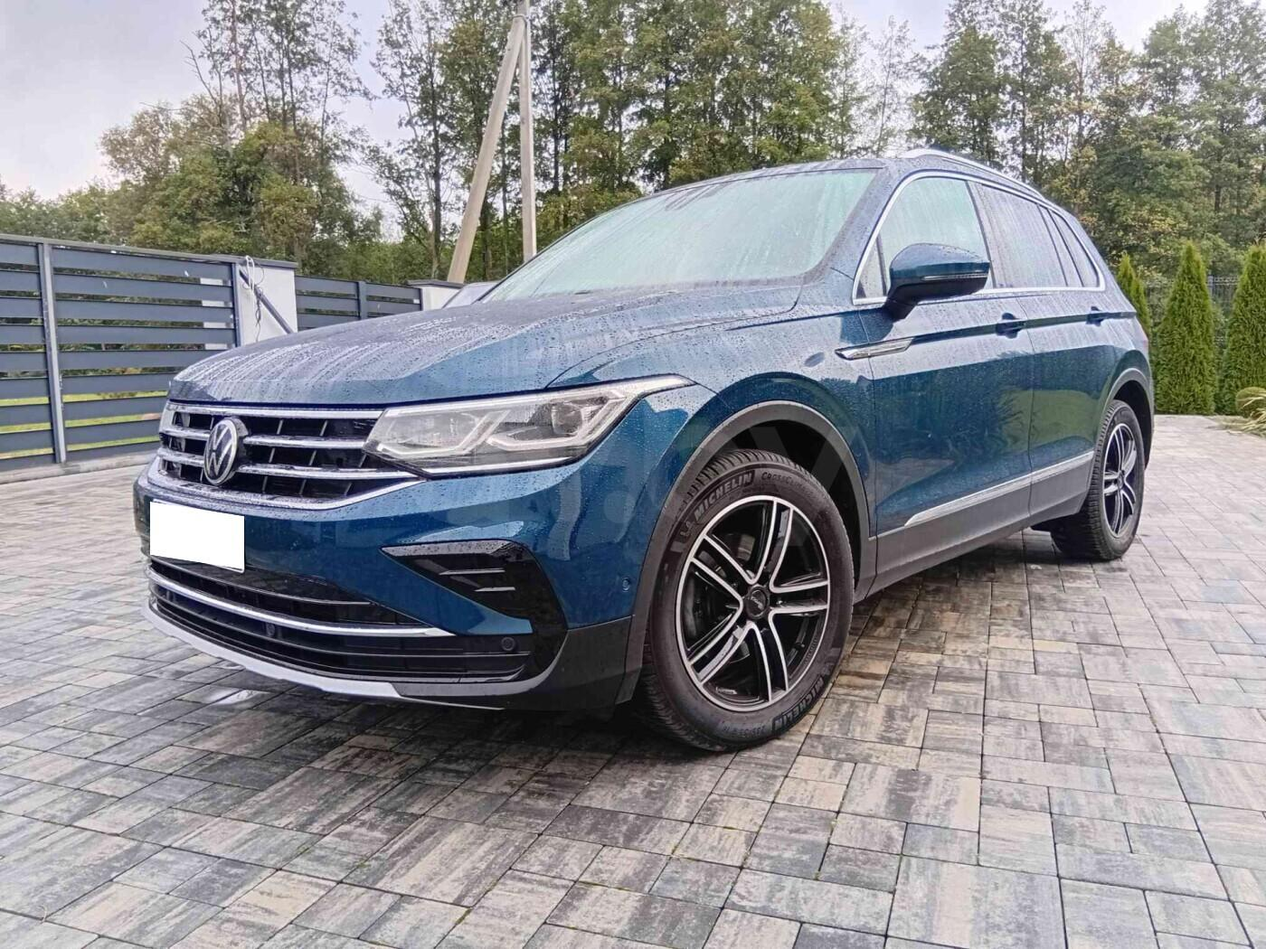Tiguan_2020-2024: (130, 150, 1157, 742)
